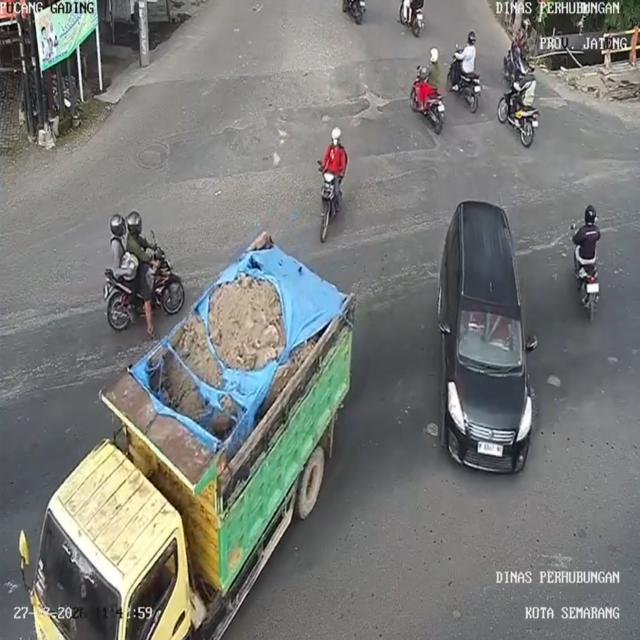motorcycle: (102, 261, 184, 329), (496, 93, 540, 150), (410, 80, 446, 132), (314, 163, 338, 240), (447, 62, 482, 112), (574, 262, 601, 321), (398, 0, 425, 38), (341, 0, 368, 25), (505, 56, 526, 82)
person: (105, 212, 137, 280), (127, 209, 154, 284), (318, 128, 348, 180), (574, 205, 599, 267), (422, 46, 442, 96), (457, 30, 478, 74), (521, 63, 538, 109), (512, 18, 532, 57)
rider_region: (99, 204, 190, 336), (317, 124, 354, 250), (492, 58, 541, 150), (570, 203, 603, 323), (407, 44, 445, 141), (446, 29, 482, 121), (501, 16, 536, 89)
